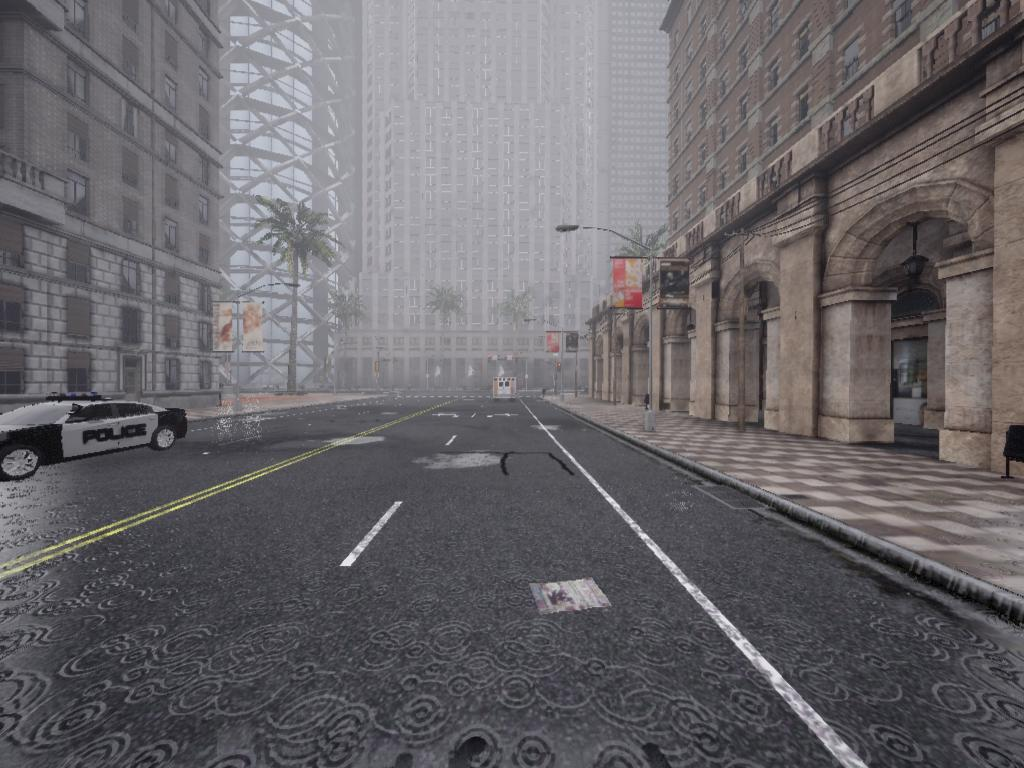traffic_light: (557, 363, 563, 375), (394, 358, 398, 367), (377, 362, 380, 373), (488, 355, 491, 364), (516, 356, 519, 364)
